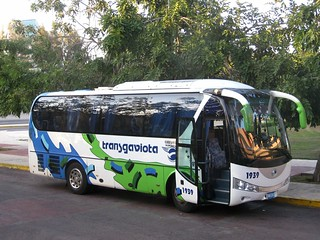bus: (28, 79, 306, 214)
